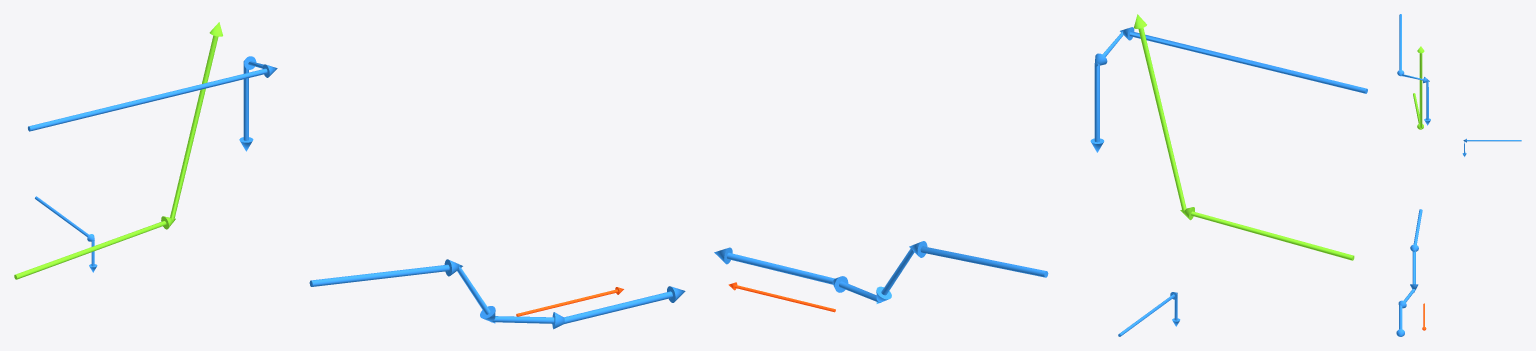
Rendered from cooling_tower_basin_flow.glb.
The picture shows the model from 3 angles, left to right: view 1: azimuth 30°, elevation 25°; view 2: azimuth 150°, elevation 25°; view 3: azimuth 270°, elevation 25°; orthographic projection. The views are drawn at different scales.
Visible parts, largest first — view 1: cold_water, hot_water, air; view 2: cold_water, hot_water, air; view 3: cold_water, air, hot_water, makeup.
Boxes of the visible parts, box(x1,y1,x2,y2) form: cold_water: box(309, 259, 685, 329); hot_water: box(28, 56, 277, 151); air: box(14, 22, 222, 279); cold_water: box(714, 241, 1048, 303); hot_water: box(1090, 27, 1367, 152); air: box(1134, 14, 1354, 260); cold_water: box(1396, 209, 1422, 336); air: box(1413, 46, 1424, 129); hot_water: box(1397, 14, 1430, 125); makeup: box(1462, 138, 1521, 156).
Bounding box in the file's own units: 5.65 × 3.07 × 1.86.
